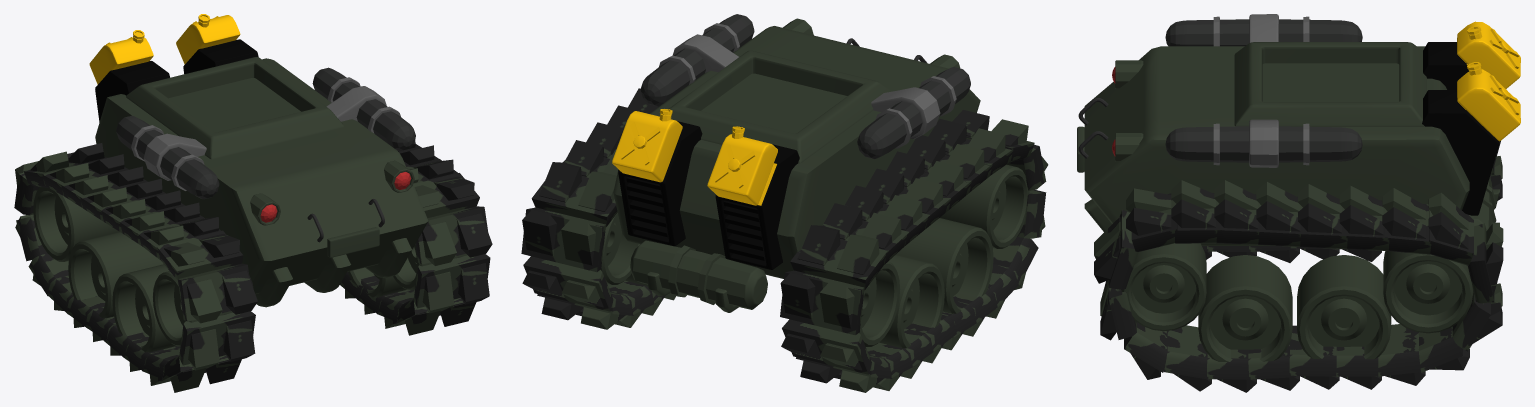
Rendered from Tank Bottom.fbx.
3 views of the same model, side by side, from view 1: azimuth 30°, elevation 25°; view 2: azimuth 150°, elevation 25°; view 3: azimuth 270°, elevation 25° (orthographic). The views are drawn at different scales.
Parts seen in each view (by area): view 1: pasted__pasted__polySurface52, MASH2_ReproMesh, MASH3_ReproMesh, pasted__polySurface50, side_canister, polySurface13, pasted__polySurface84, pasted__polySurface123, polySurface14, polySurface15, pasted__pasted__polySurface122, polySurface11 (+8 smaller); view 2: MASH2_ReproMesh, pasted__pasted__polySurface52, MASH3_ReproMesh, pasted__polySurface50, pasted__polySurface123, pasted__pasted__polySurface122, pasted__pasted__polySurface119, side_canister, polySurface15, pasted__polySurface84, polySurface11, polySurface13 (+2 smaller); view 3: MASH3_ReproMesh, pasted__pasted__polySurface52, pasted__polySurface50, polySurface7, polySurface5, pasted__pasted__polySurface122, pasted__polySurface84, polySurface6, polySurface3, side_canister, pasted__polySurface123, MASH2_ReproMesh (+4 smaller).
Part boxes in pixels (bbox=[...]): pasted__pasted__polySurface52: bbox=[95, 58, 428, 294]; MASH2_ReproMesh: bbox=[14, 143, 257, 392]; MASH3_ReproMesh: bbox=[340, 140, 492, 335]; pasted__polySurface50: bbox=[126, 57, 343, 159]; side_canister: bbox=[116, 115, 219, 199]; polySurface13: bbox=[68, 232, 163, 318]; pasted__polySurface84: bbox=[312, 67, 415, 151]; pasted__polySurface123: bbox=[89, 30, 169, 122]; polySurface14: bbox=[33, 187, 119, 261]; polySurface15: bbox=[112, 264, 175, 352]; pasted__pasted__polySurface122: bbox=[176, 14, 258, 74]; polySurface11: bbox=[153, 271, 232, 346]; MASH2_ReproMesh: bbox=[780, 110, 1048, 392]; pasted__pasted__polySurface52: bbox=[613, 26, 980, 278]; MASH3_ReproMesh: bbox=[521, 88, 676, 329]; pasted__polySurface50: bbox=[668, 50, 891, 163]; pasted__polySurface123: bbox=[707, 126, 799, 269]; pasted__pasted__polySurface122: bbox=[612, 109, 702, 246]; pasted__pasted__polySurface119: bbox=[630, 240, 767, 312]; side_canister: bbox=[857, 67, 970, 159]; polySurface15: bbox=[896, 218, 993, 313]; pasted__polySurface84: bbox=[640, 14, 754, 106]; polySurface11: bbox=[940, 164, 1029, 248]; polySurface13: bbox=[879, 255, 944, 348]; MASH3_ReproMesh: bbox=[1094, 180, 1503, 392]; pasted__pasted__polySurface52: bbox=[1084, 46, 1469, 245]; pasted__polySurface50: bbox=[1234, 42, 1426, 126]; polySurface7: bbox=[1198, 255, 1292, 361]; polySurface5: bbox=[1297, 255, 1391, 359]; pasted__pasted__polySurface122: bbox=[1422, 62, 1520, 215]; pasted__polySurface84: bbox=[1165, 119, 1362, 167]; polySurface6: bbox=[1383, 251, 1473, 333]; polySurface3: bbox=[1121, 243, 1206, 331]; side_canister: bbox=[1165, 14, 1362, 46]; pasted__polySurface123: bbox=[1423, 21, 1520, 89]; MASH2_ReproMesh: bbox=[1202, 141, 1502, 262].
Bounding box in the file's own units: 6.03 × 4.53 × 6.87.
Materials: 7 (5 with a texture image).
